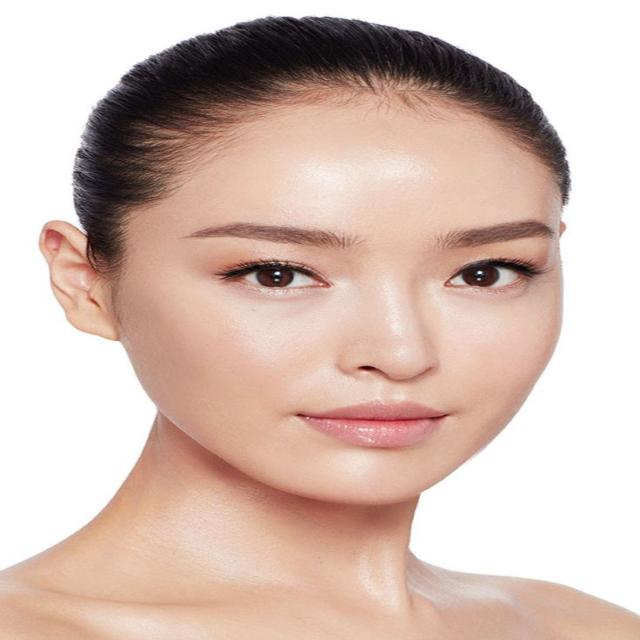Oily-Skin: (272, 151, 516, 210), (206, 308, 316, 390), (452, 304, 531, 408)
